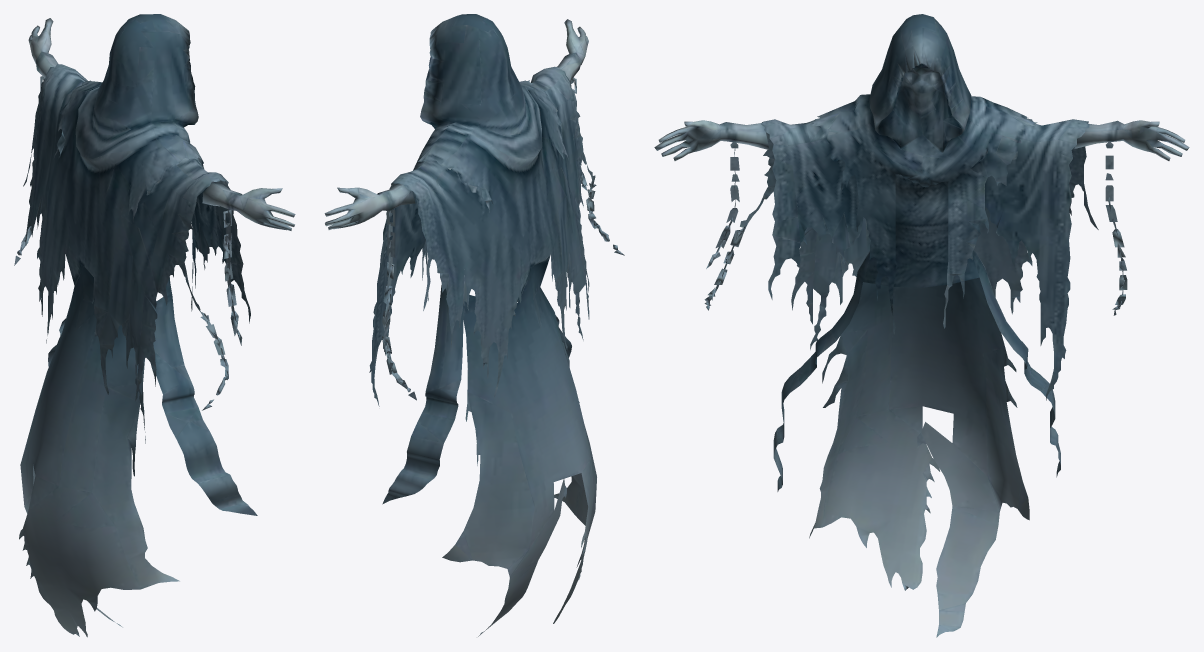
The model's file is wraith_thrall.glb.
3 renders of one model, left to right at view 1: azimuth 30°, elevation 25°; view 2: azimuth 150°, elevation 25°; view 3: azimuth 270°, elevation 25°, orthographic. The views are drawn at different scales.
Parts seen in each view (by area): view 1: tripo_node_71978ec2-9244-46f9-8088-5d9bbdcd9d31; view 2: tripo_node_71978ec2-9244-46f9-8088-5d9bbdcd9d31; view 3: tripo_node_71978ec2-9244-46f9-8088-5d9bbdcd9d31.
Boxes of the visible parts, box(x1,y1,x2,y2) form: tripo_node_71978ec2-9244-46f9-8088-5d9bbdcd9d31: box(14, 14, 295, 637); tripo_node_71978ec2-9244-46f9-8088-5d9bbdcd9d31: box(324, 14, 624, 636); tripo_node_71978ec2-9244-46f9-8088-5d9bbdcd9d31: box(654, 14, 1189, 637).
Size of the model in its own units: 0.2715 by 0.998 by 0.7716.
1 material, 1 textured.
